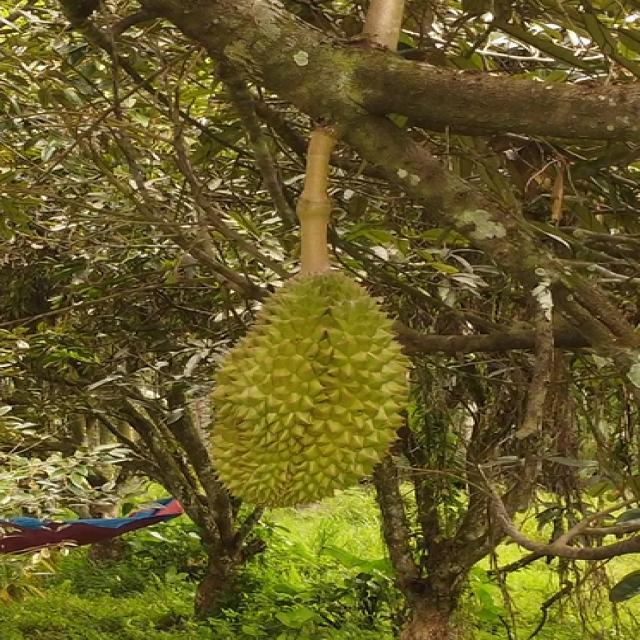immature: (200, 272, 417, 510)
